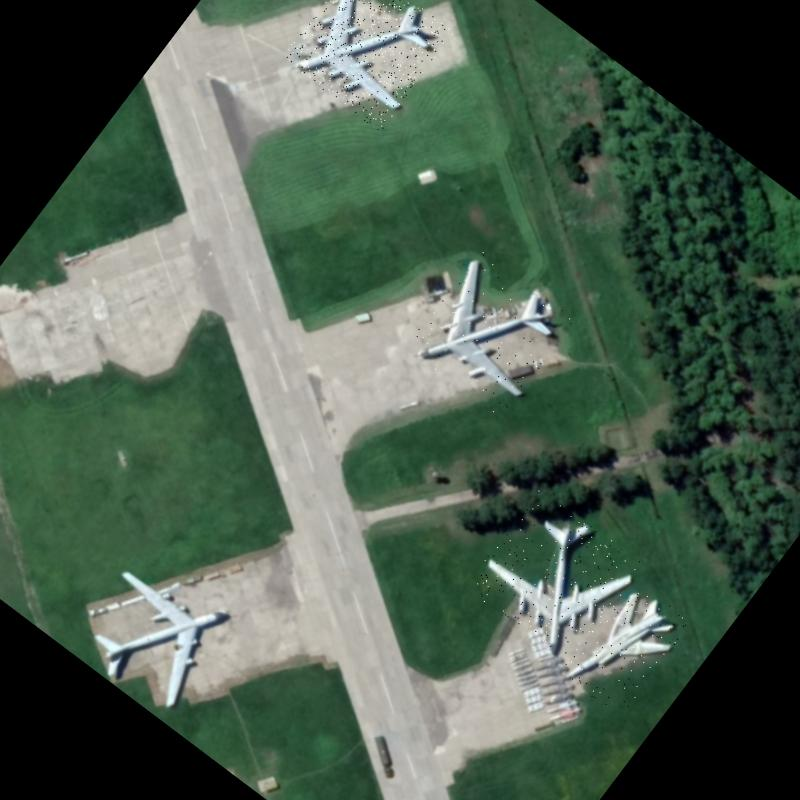A12: (563, 580, 692, 718)
A17: (463, 486, 645, 668), (64, 545, 239, 720), (403, 247, 577, 421), (280, 0, 454, 132)
